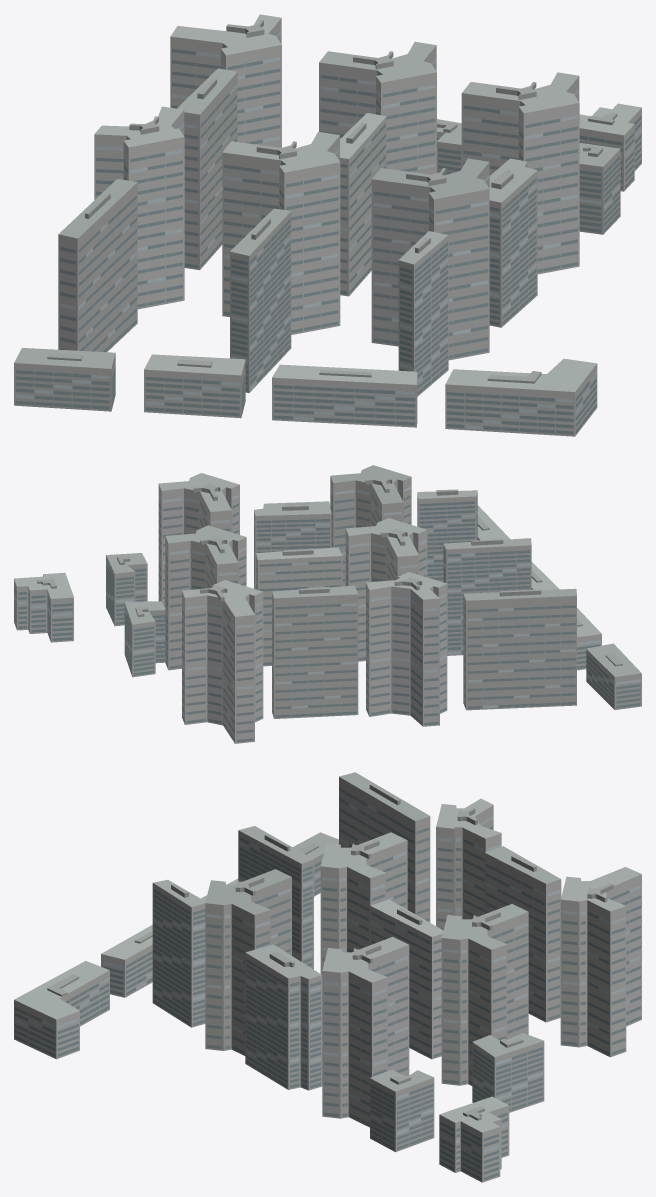
The model's file is apt-a10024488.glb.
The picture shows the model from 3 angles, top to bottom: view 1: azimuth 30°, elevation 25°; view 2: azimuth 150°, elevation 25°; view 3: azimuth 270°, elevation 25°; orthographic projection. The views are drawn at different scales.
Visible parts, largest first — view 1: apt-a10024488; view 2: apt-a10024488; view 3: apt-a10024488.
Boxes of the visible parts, x1,y1,x2,y2 form: apt-a10024488: (14, 14, 641, 436); apt-a10024488: (14, 465, 641, 743); apt-a10024488: (14, 772, 641, 1182).
Size of the model in its own units: 370 by 83 by 315.
